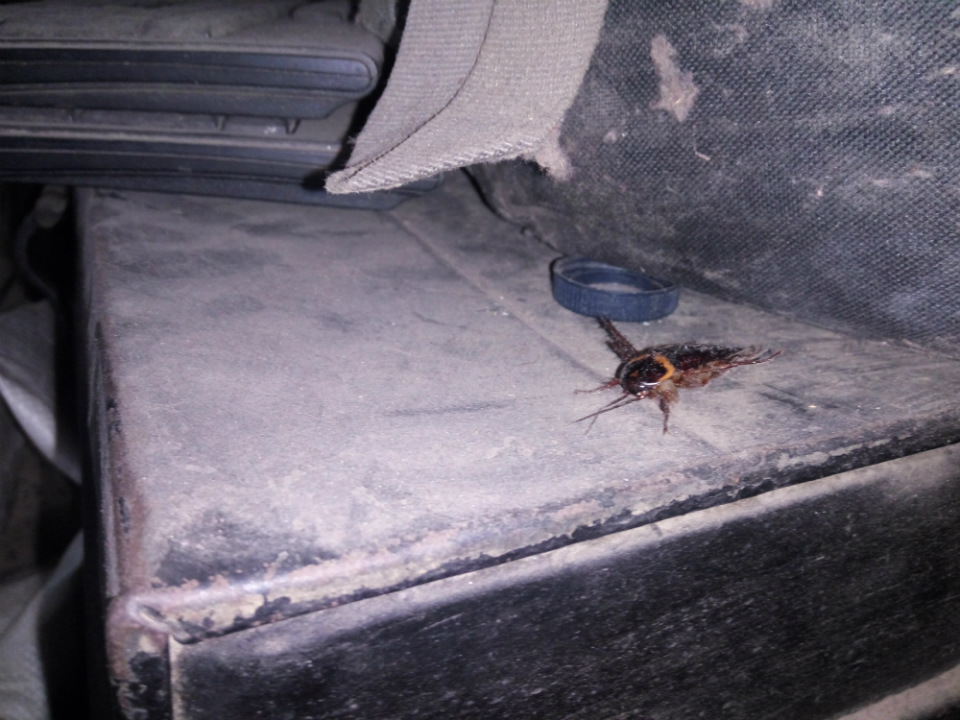cockroach: (458, 331, 787, 423)
